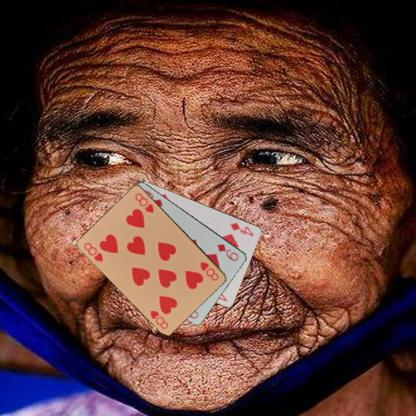4d: (228, 219, 256, 238)
8h: (198, 259, 220, 282), (82, 240, 104, 263)
9d: (215, 241, 240, 262)
